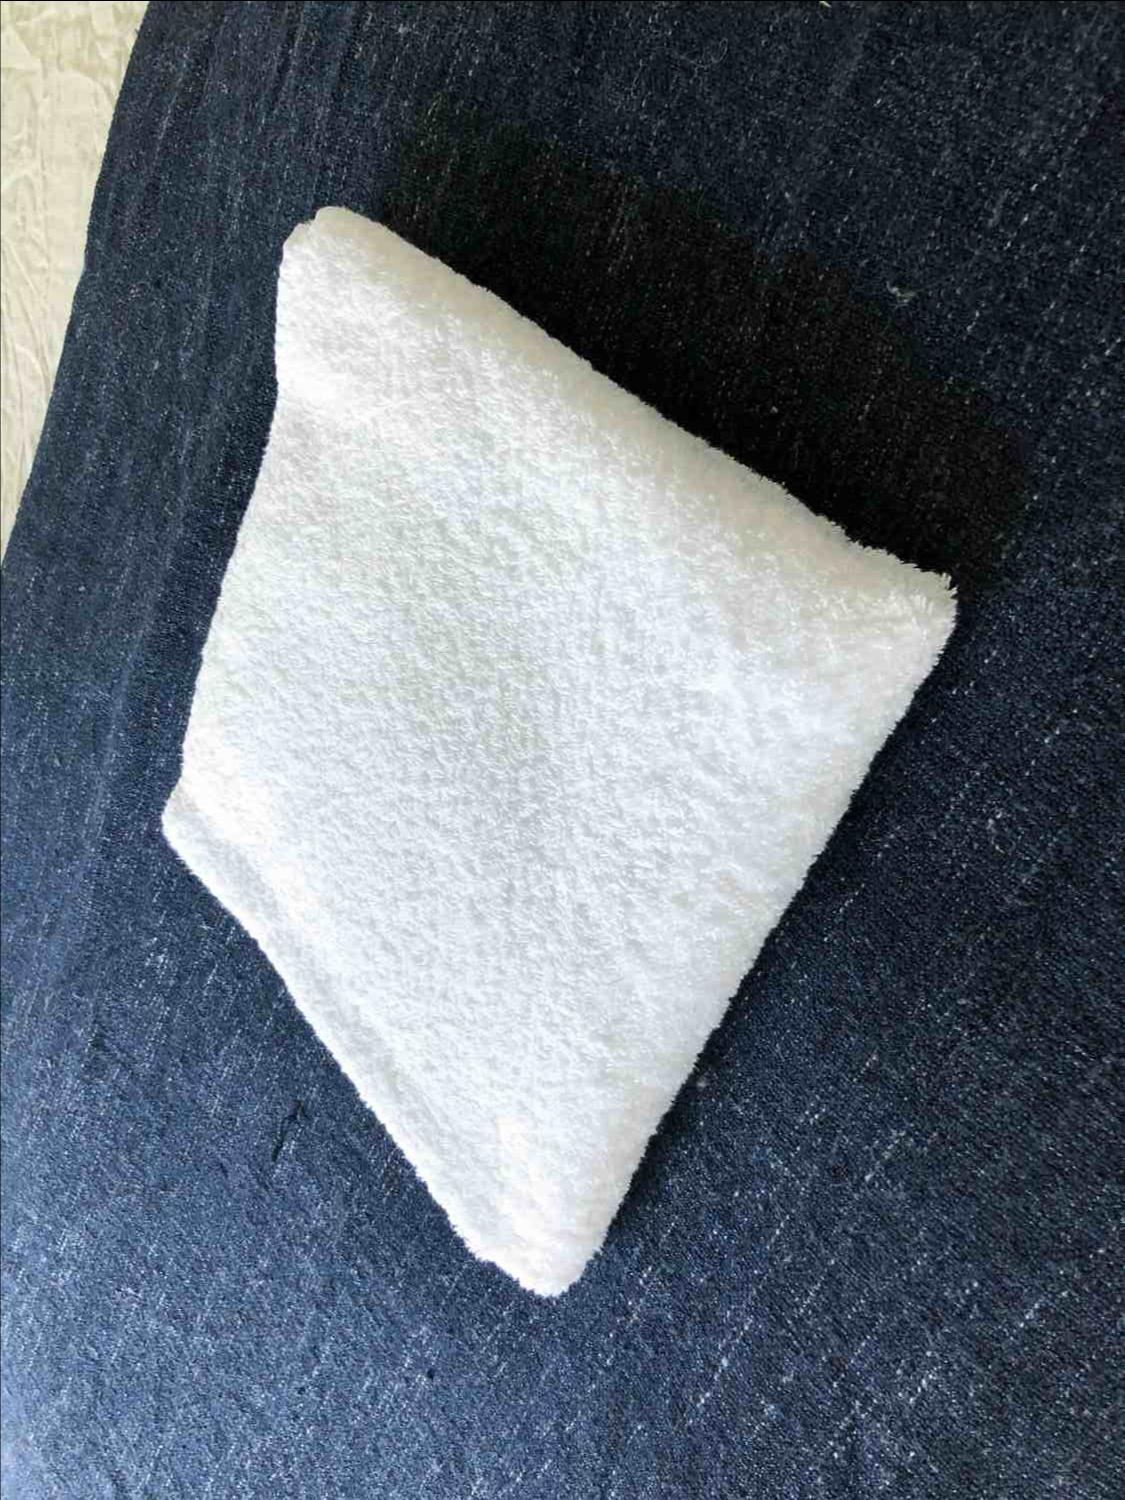towel: (134, 207, 967, 1297)
